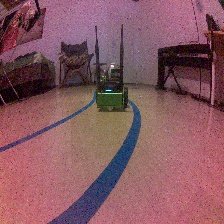rob: (95, 63, 128, 112)
